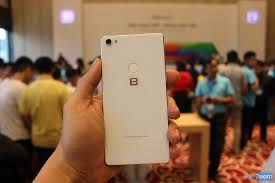bphone: (95, 32, 171, 167)
